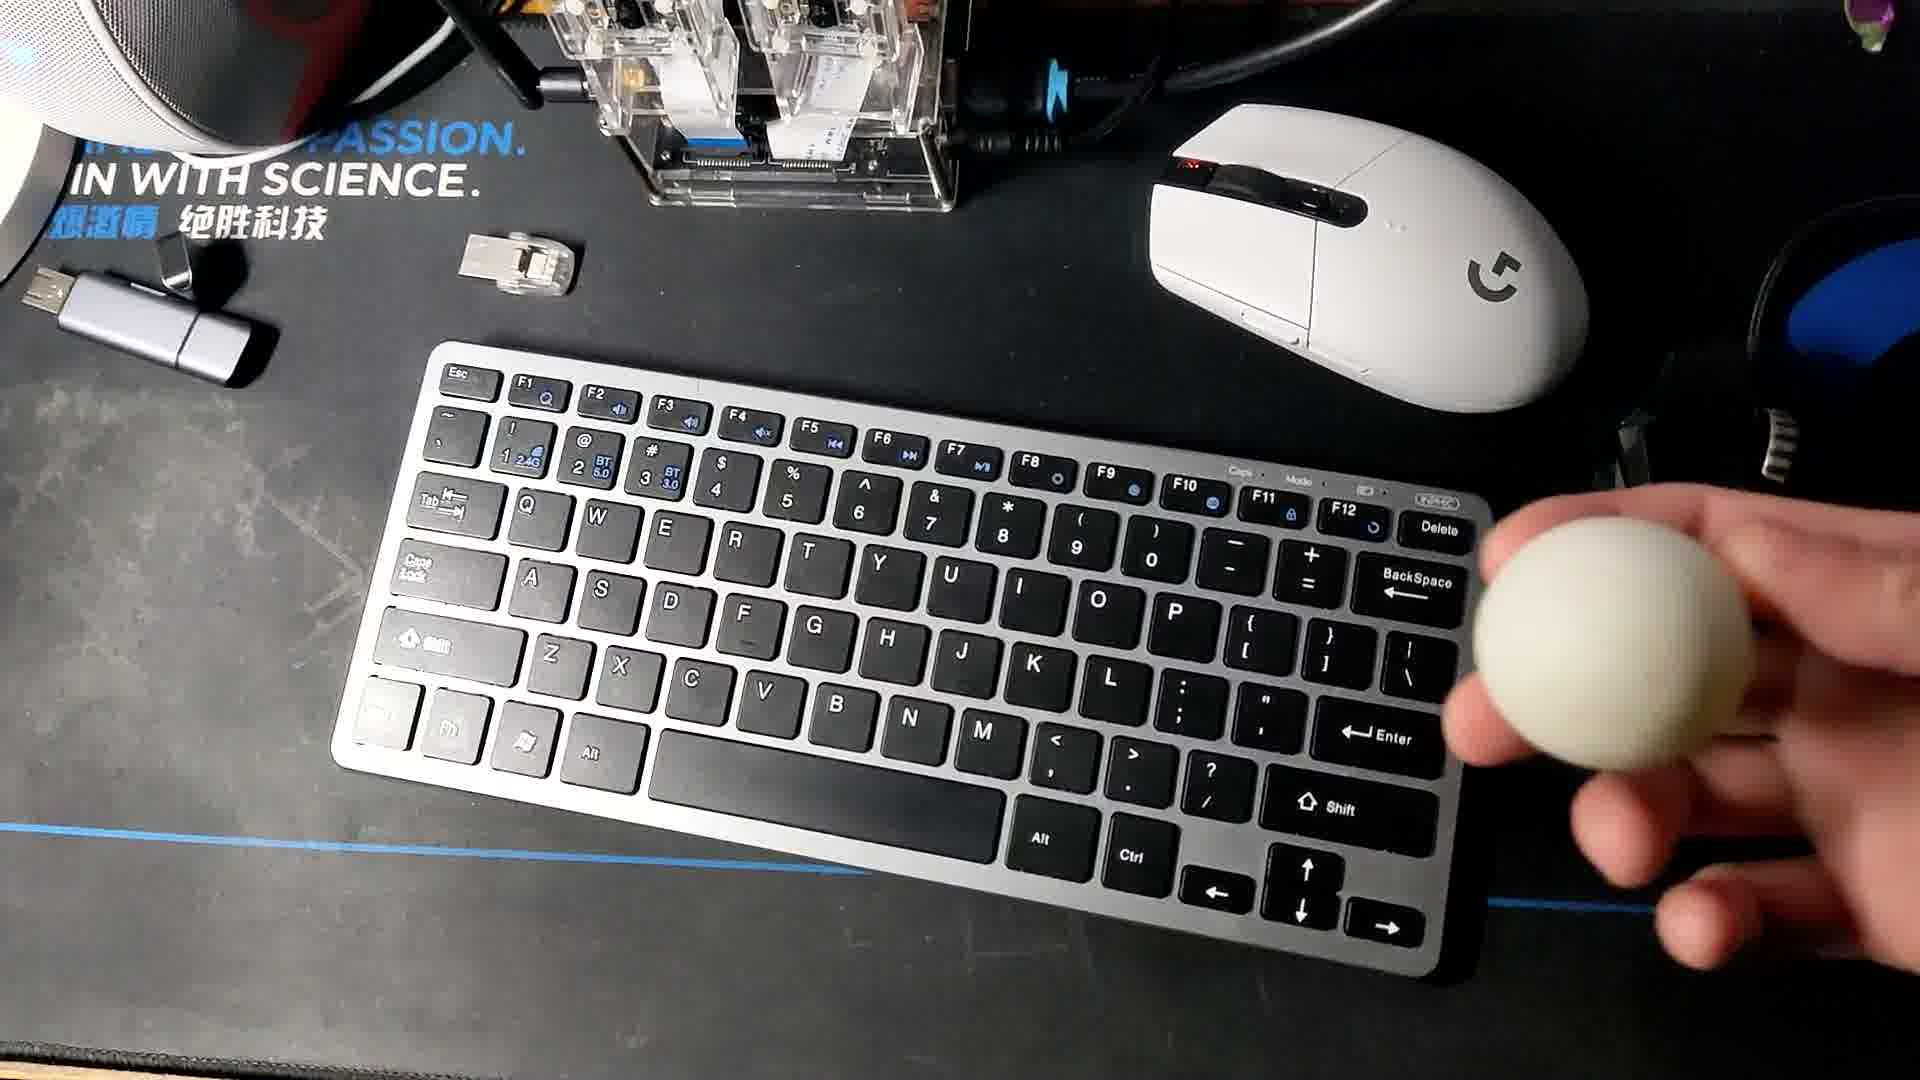Ball: (1464, 520, 1750, 773)
